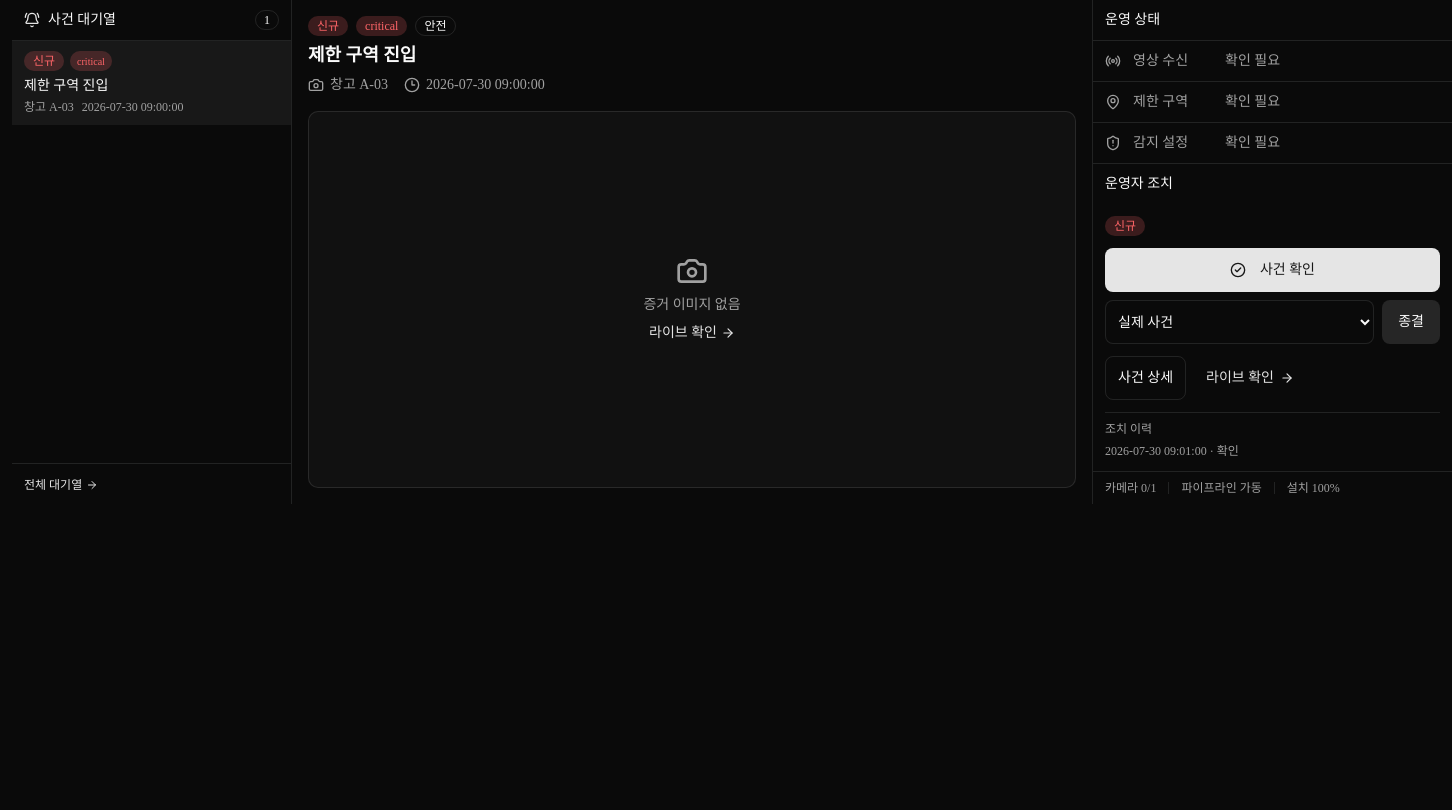
SignalWorkspace › records acknowledgement and shows success feedback
This screenshot has width=1452, height=810.
Click the button "사건 확인".
click(1272, 270)  # box [1105, 248, 1440, 292]
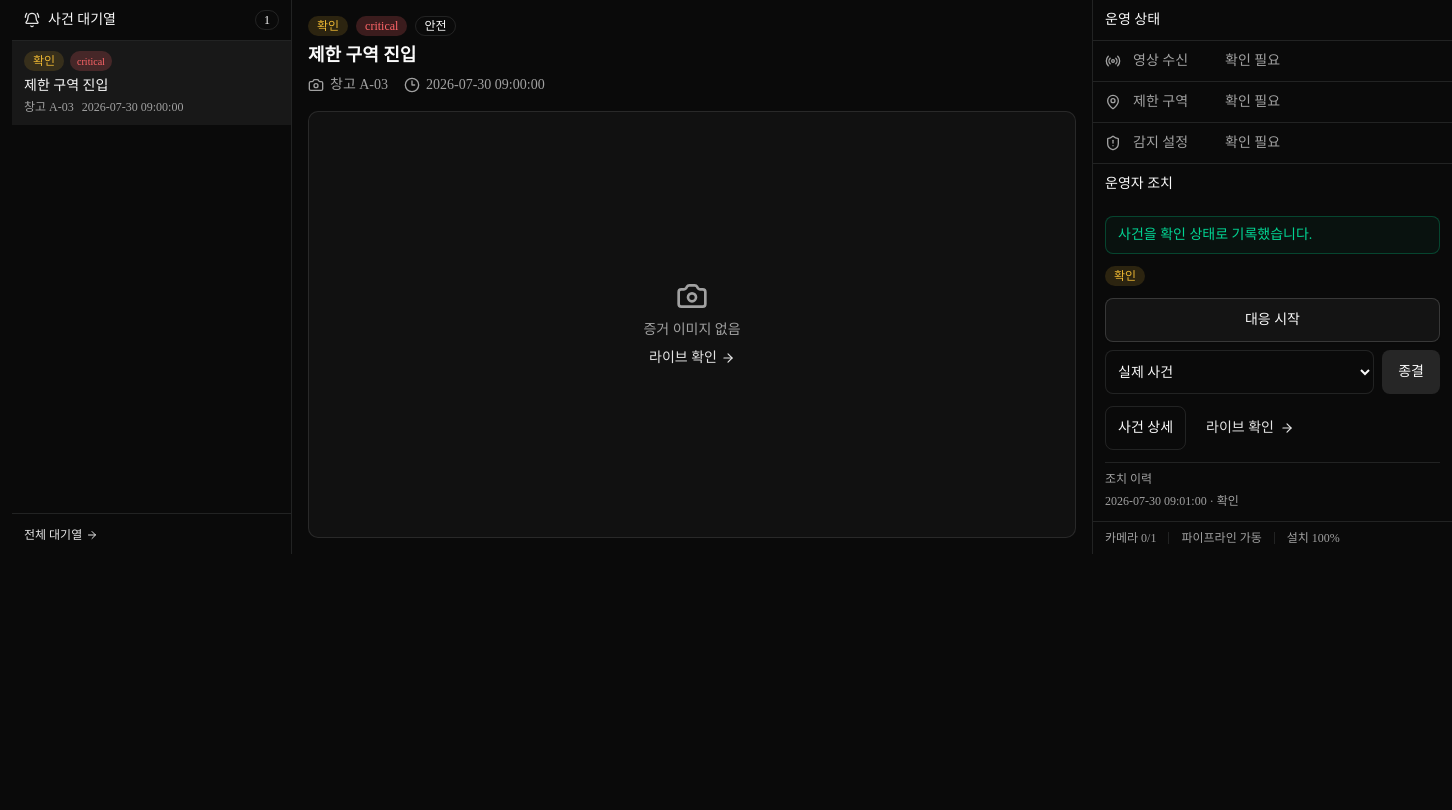
Now the text "사건을 확인 상태로 기록했습니다." is shown, box [1105, 216, 1440, 254]
